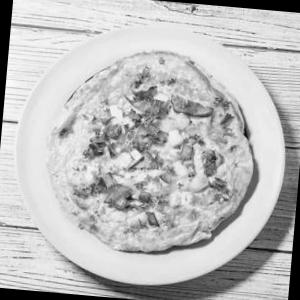omelet: (39, 42, 268, 262)
